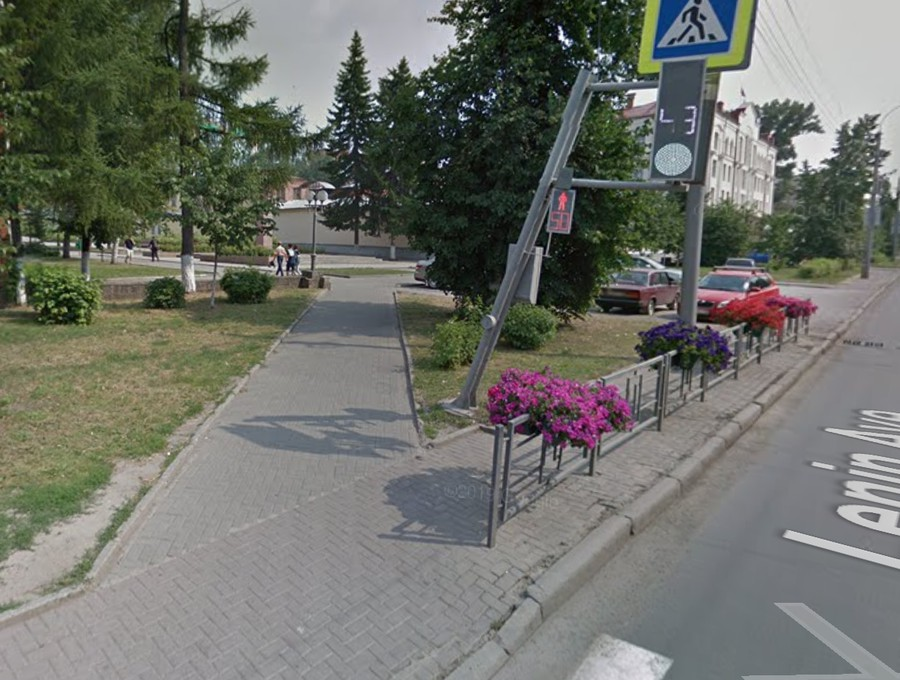Traffic Light-red: (547, 175, 576, 238)
